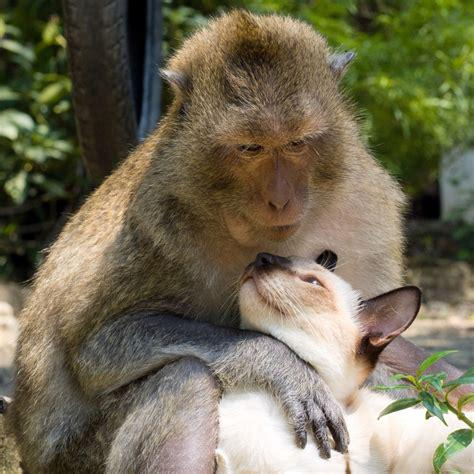cat: (219, 252, 419, 474)
monkey: (16, 18, 401, 474)
